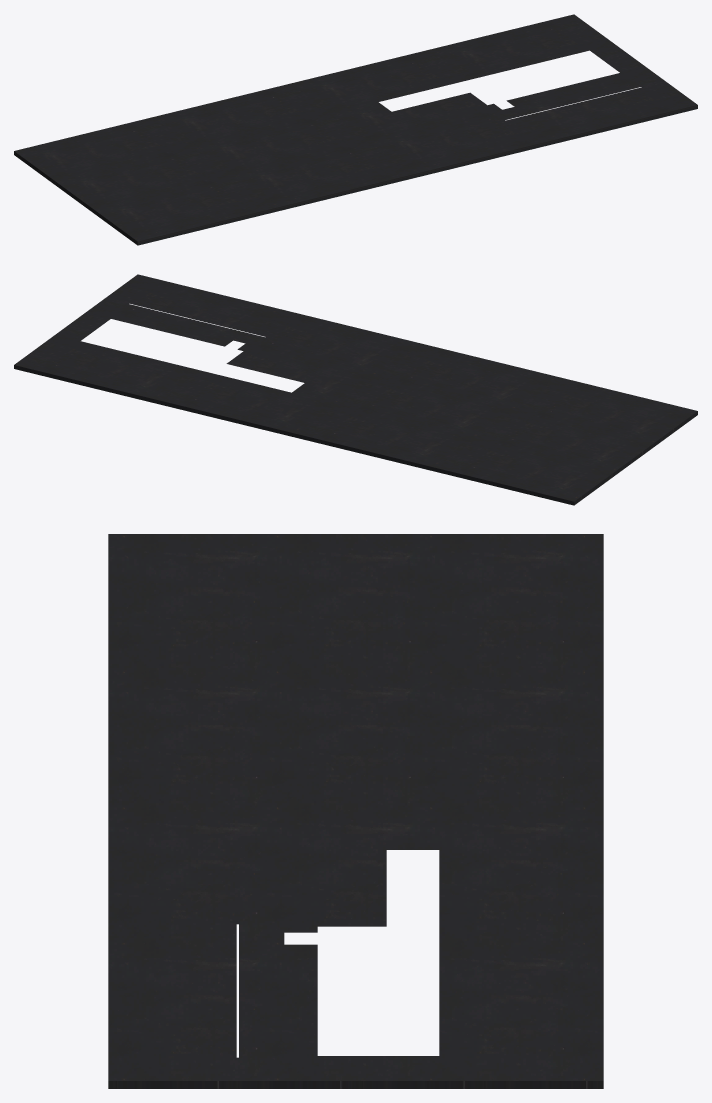
The model's file is SM_MERGED_StaticMeshActor_0.glb.
3 renders of one model, top to bottom at view 1: azimuth 30°, elevation 25°; view 2: azimuth 150°, elevation 25°; view 3: azimuth 270°, elevation 25°, orthographic. The views are drawn at different scales.
Visible parts, largest first — view 1: SM_MERGED_StaticMeshActor_0; view 2: SM_MERGED_StaticMeshActor_0; view 3: SM_MERGED_StaticMeshActor_0.
Boxes of the visible parts, x1,y1,x2,y2 form: SM_MERGED_StaticMeshActor_0: (14,14,697,245); SM_MERGED_StaticMeshActor_0: (14,274,697,505); SM_MERGED_StaticMeshActor_0: (108,534,603,1088).
Bounding box in the file's own units: 369 × 2.5 × 141.
Materials: 1 (1 with a texture image).
